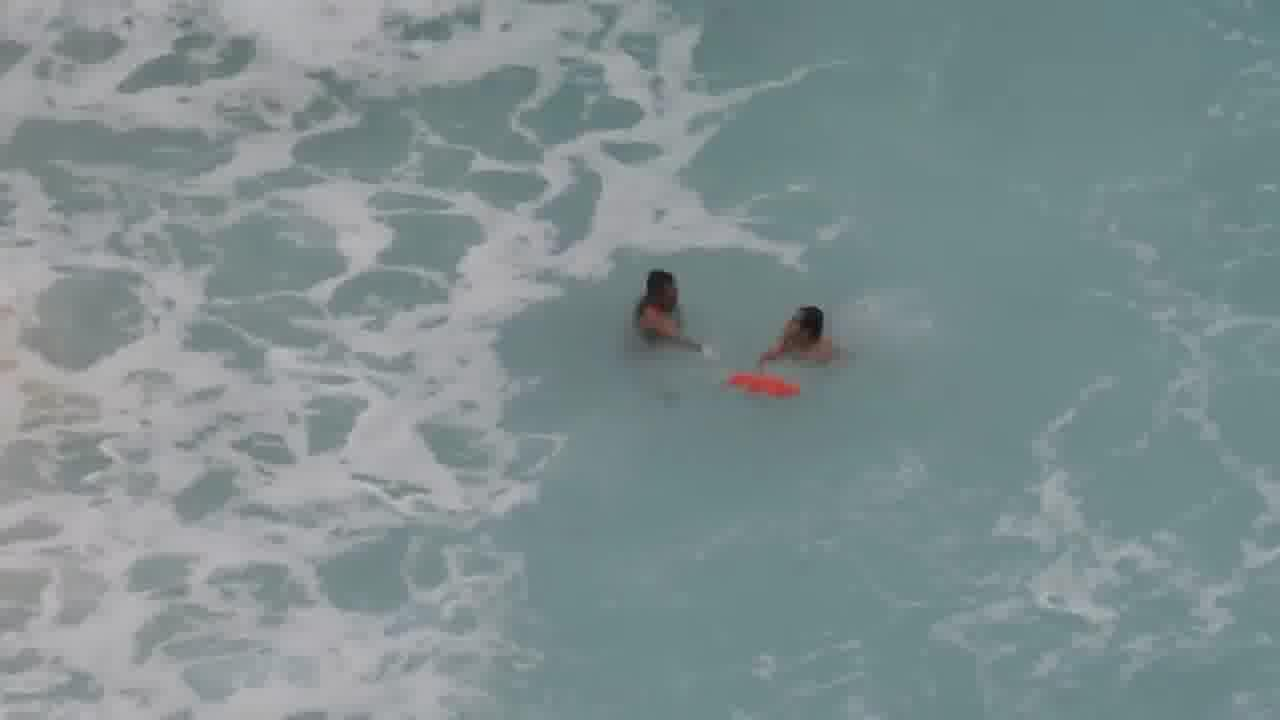swimmer: (616, 264, 709, 362), (748, 296, 841, 371)
